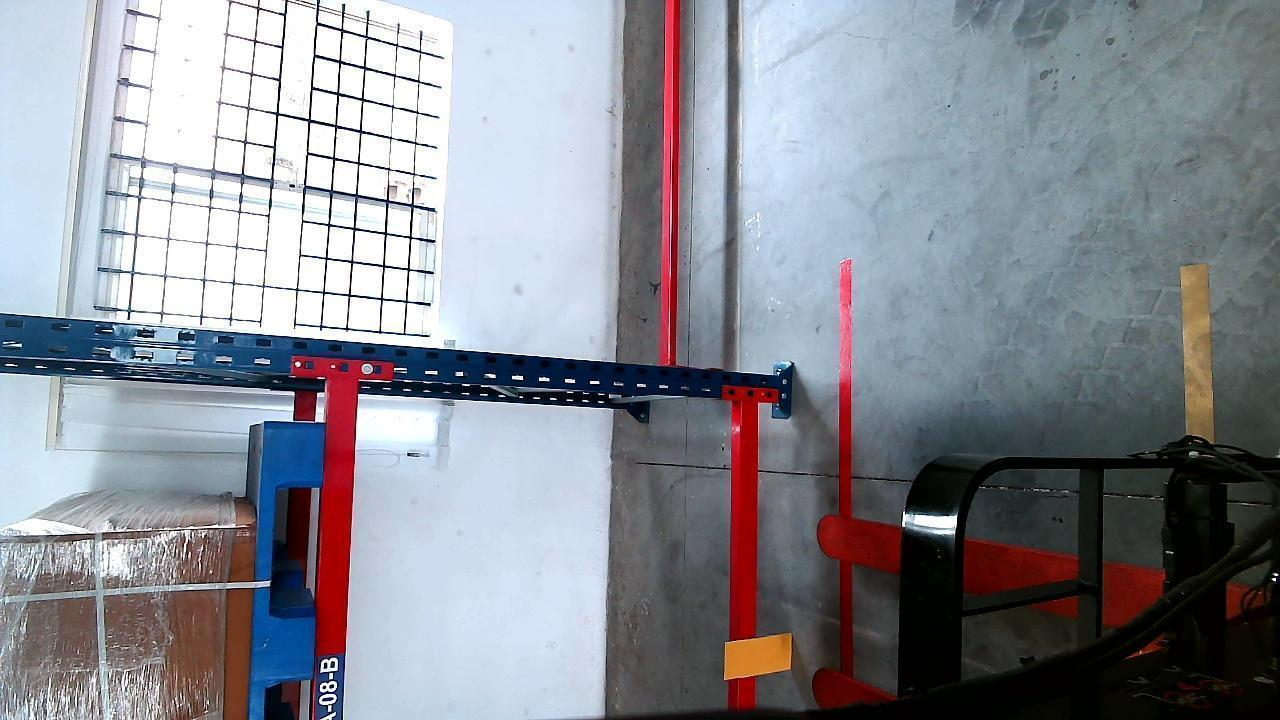red_line: (838, 255, 856, 672)
yellow_line: (1184, 257, 1215, 439)
